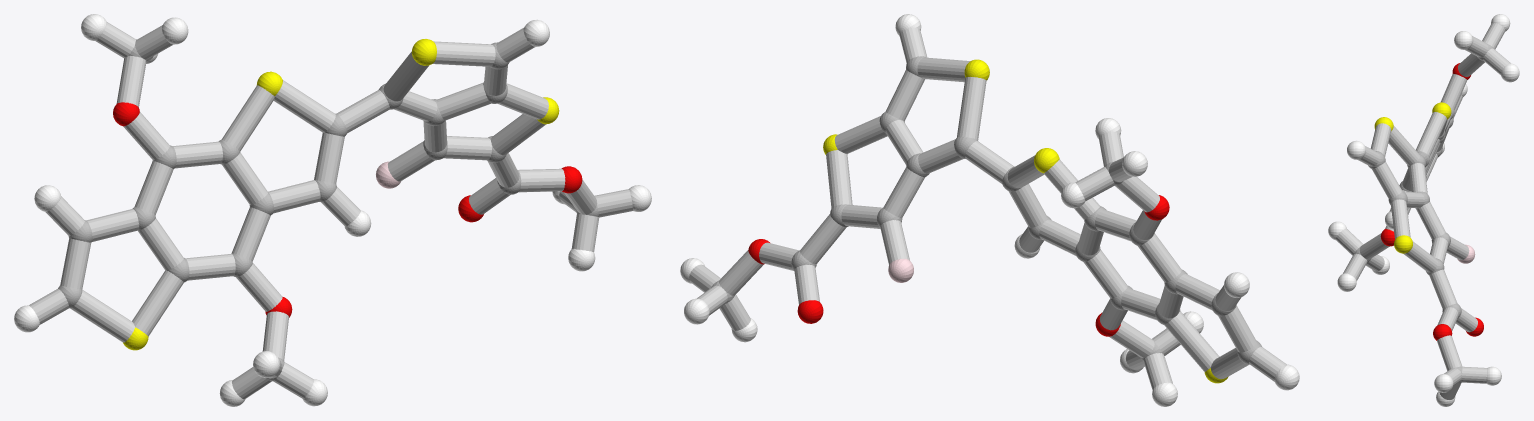
File: color.glb
The picture shows the model from 3 angles, left to right: view 1: azimuth 30°, elevation 25°; view 2: azimuth 150°, elevation 25°; view 3: azimuth 270°, elevation 25°; orthographic projection. The views are drawn at different scales.
Parts seen in each view (by area): view 1: grp15205, grp8689, grp1, grp7241, grp13395; view 2: grp15205, grp8689, grp1, grp13395, grp7241; view 3: grp15205, grp8689, grp1, grp13395, grp7241.
Part boxes in pixels (x1,y1,x2,y2): grp15205: (29,22,633,399); grp8689: (14,14,651,406); grp1: (58,39,598,381); grp7241: (123,39,559,350); grp13395: (113,102,582,317); grp15205: (689,27,1286,389); grp8689: (680,14,1299,406); grp1: (711,56,1261,364); grp13395: (748,195,1169,336); grp7241: (823,59,1228,383); grp15205: (1336,23,1510,399); grp8689: (1328,14,1519,406); grp1: (1354,44,1493,383); grp13395: (1380,63,1483,340); grp7241: (1374,102,1451,253).
Bounding box in the file's own units: 16.31 × 8.37 × 5.99.
